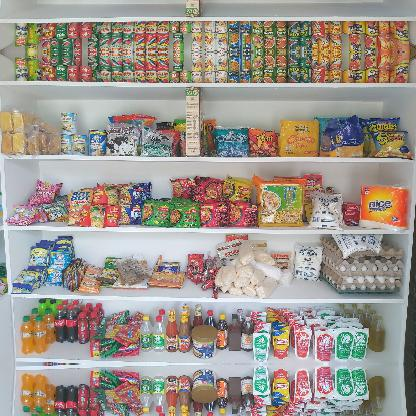Koko-Krunch: (183, 85, 209, 158), (183, 0, 210, 20)
Lady-s-Choice: (188, 322, 219, 360), (188, 368, 219, 406)
